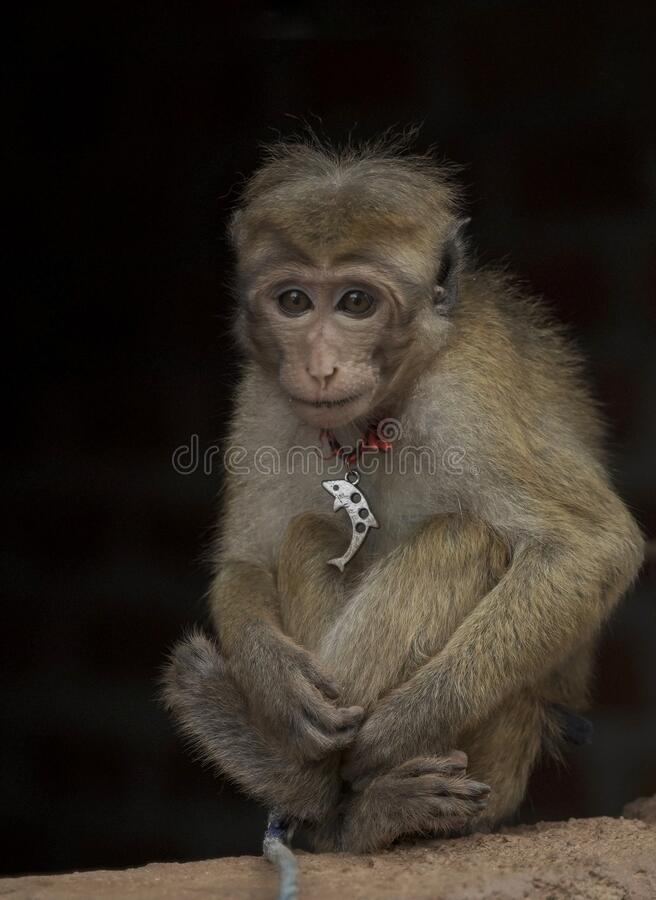Monkey: (148, 115, 648, 864)
